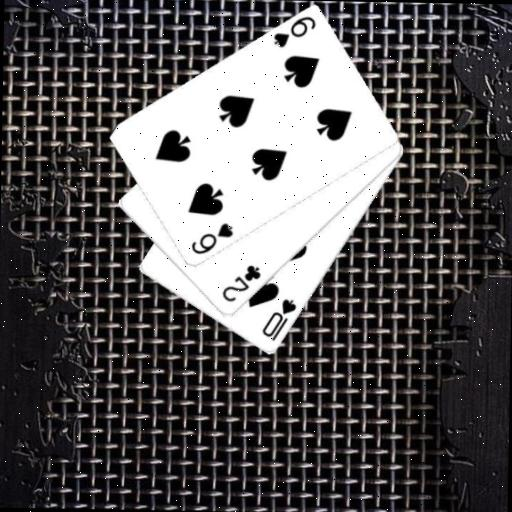10S: (259, 296, 299, 344)
2C: (218, 261, 263, 304)
6S: (270, 13, 318, 51), (188, 219, 235, 257)
